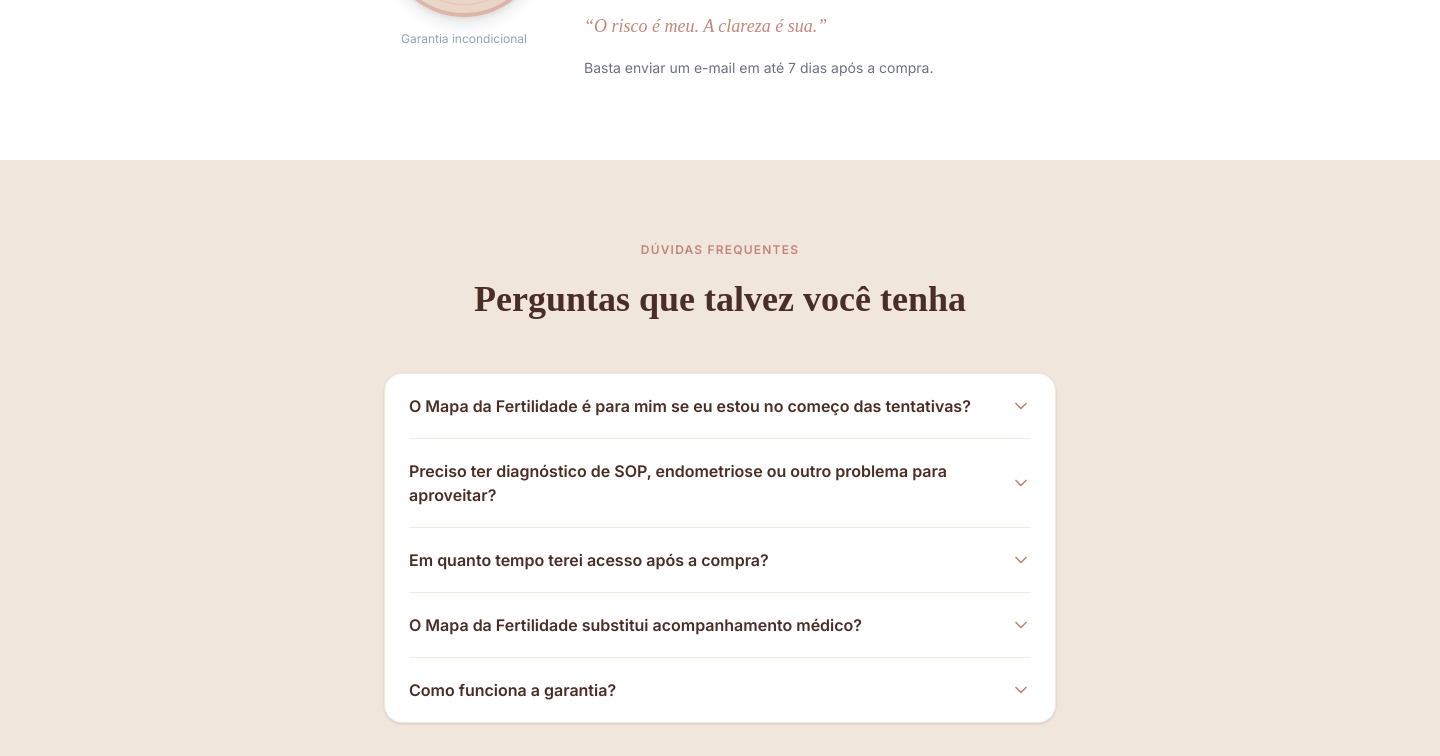
Test case: MapaDaFertilidadePage › abre e fecha uma pergunta do FAQ ao clicar
(page scrolled)
Step 1. Click the button "O Mapa da Fertilidade é para mim" → x=720, y=406, box [409,374,1031,438]
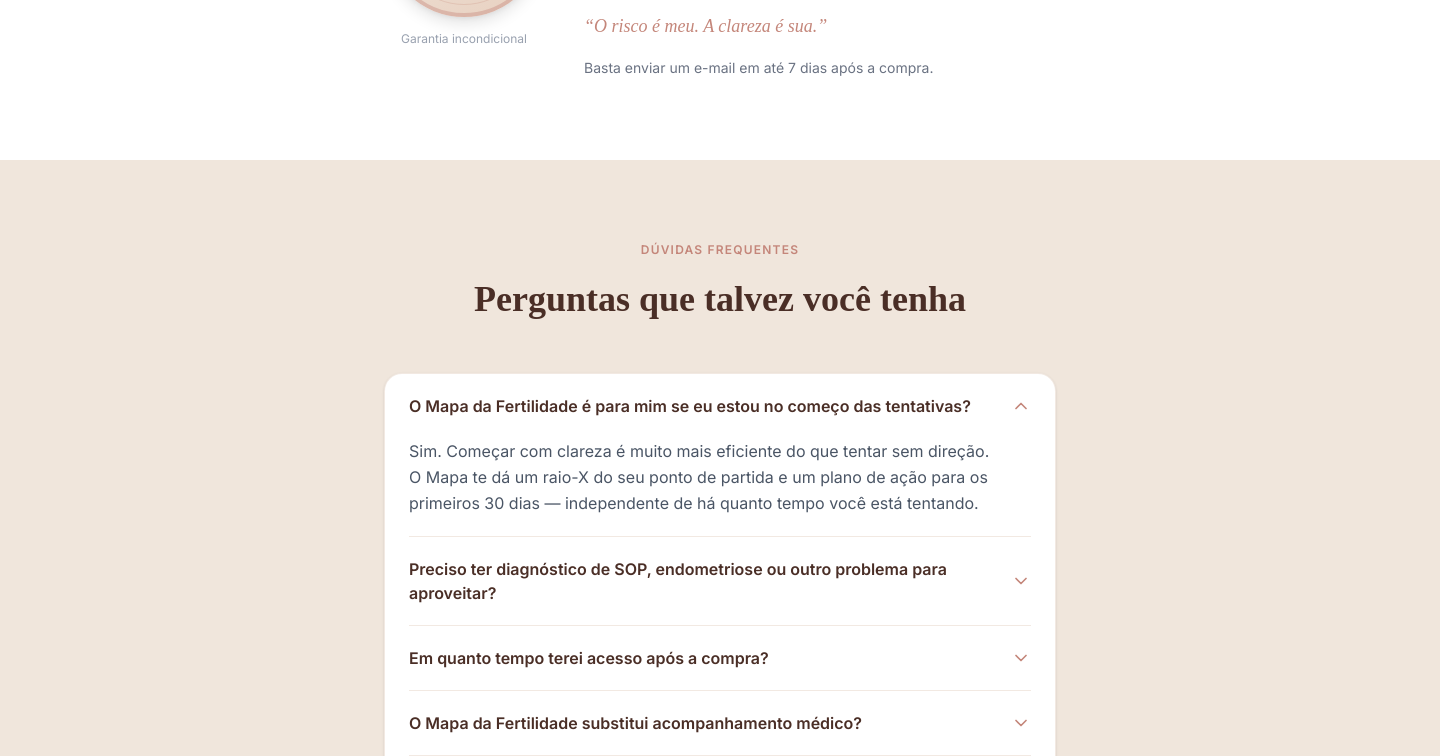
Now the button "O Mapa da Fertilidade é para mim" is expanded, box [409,374,1031,438]
